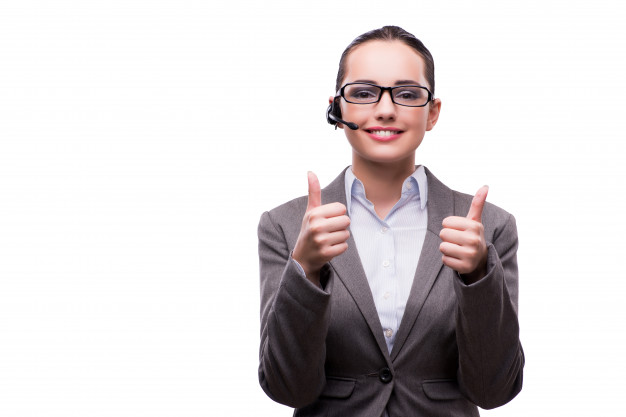thumbsup: (439, 183, 489, 273), (304, 169, 350, 259)
